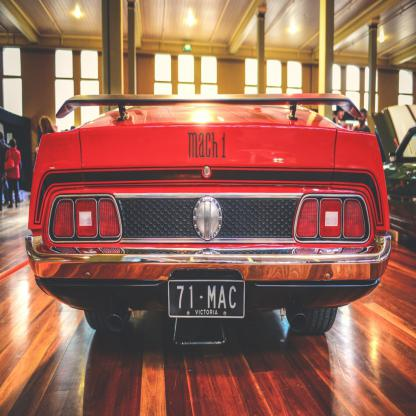Car: (25, 93, 391, 344), (383, 124, 415, 239)
